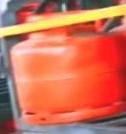cylinder: (1, 1, 126, 134)
